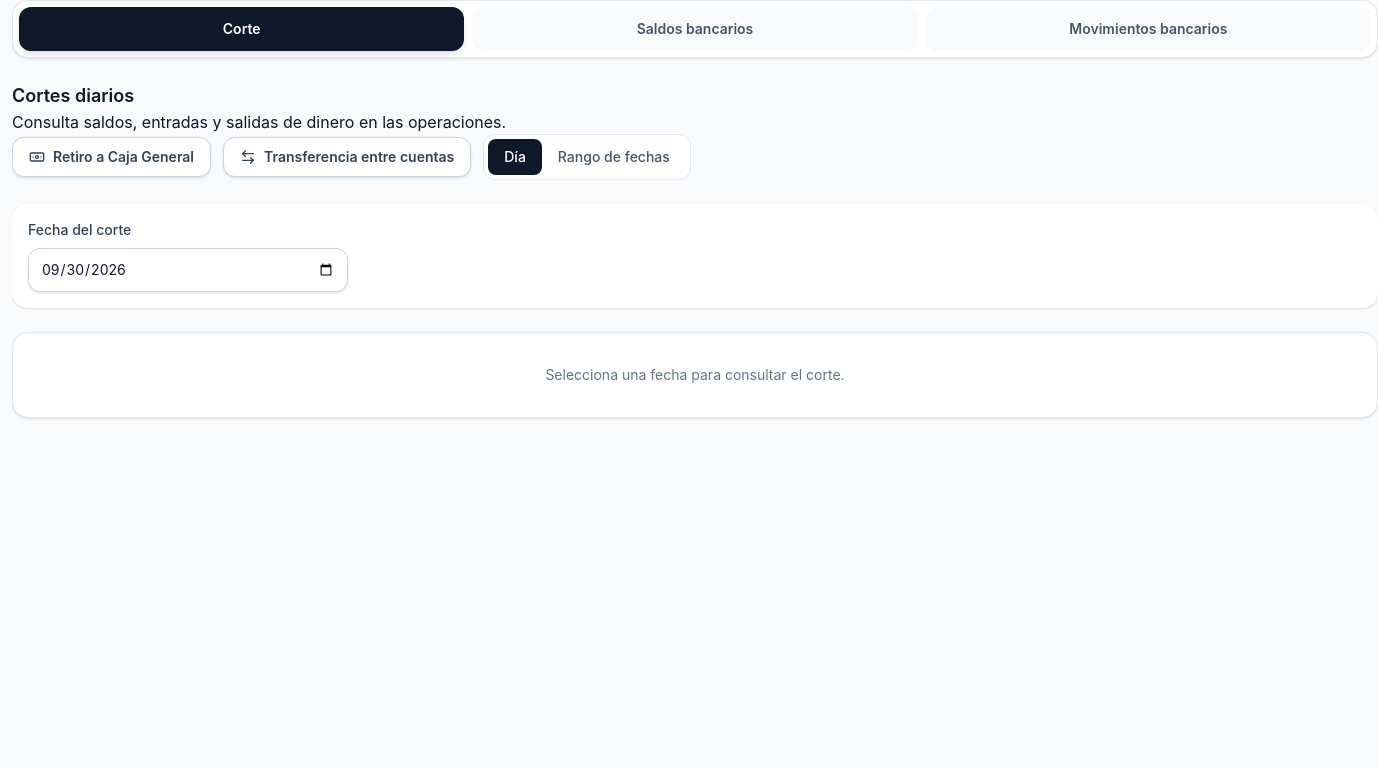
Test: DailyCashCutPage › cambiar de pestaña lleva a su propia ruta
This screenshot has width=1378, height=768.
Click the button "Movimientos bancarios" at point(1148, 29), box [926,7,1371,51]
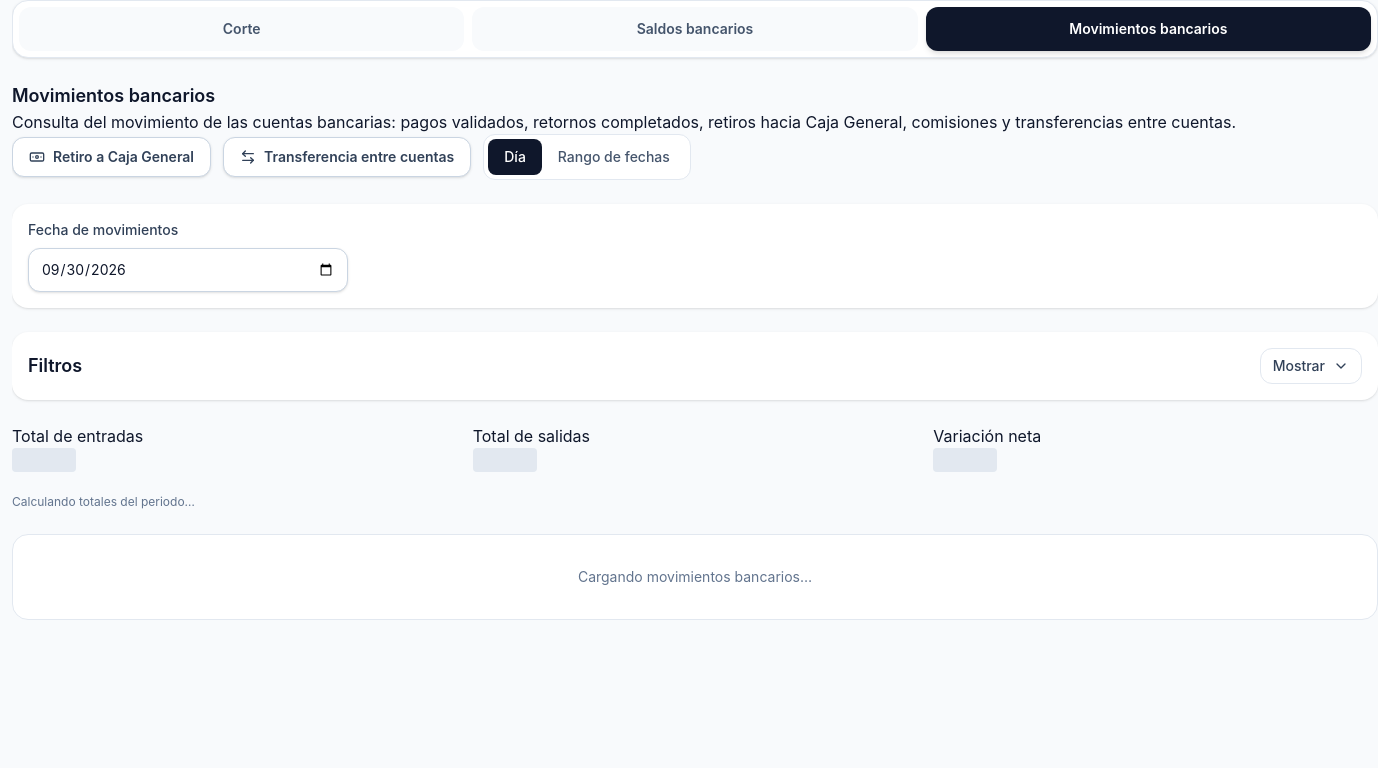
expect the heading "Movimientos bancarios" is shown: met, box [12,85,215,106]
Click the button "Saldos bancarios" at point(695, 29), box [472,7,918,51]
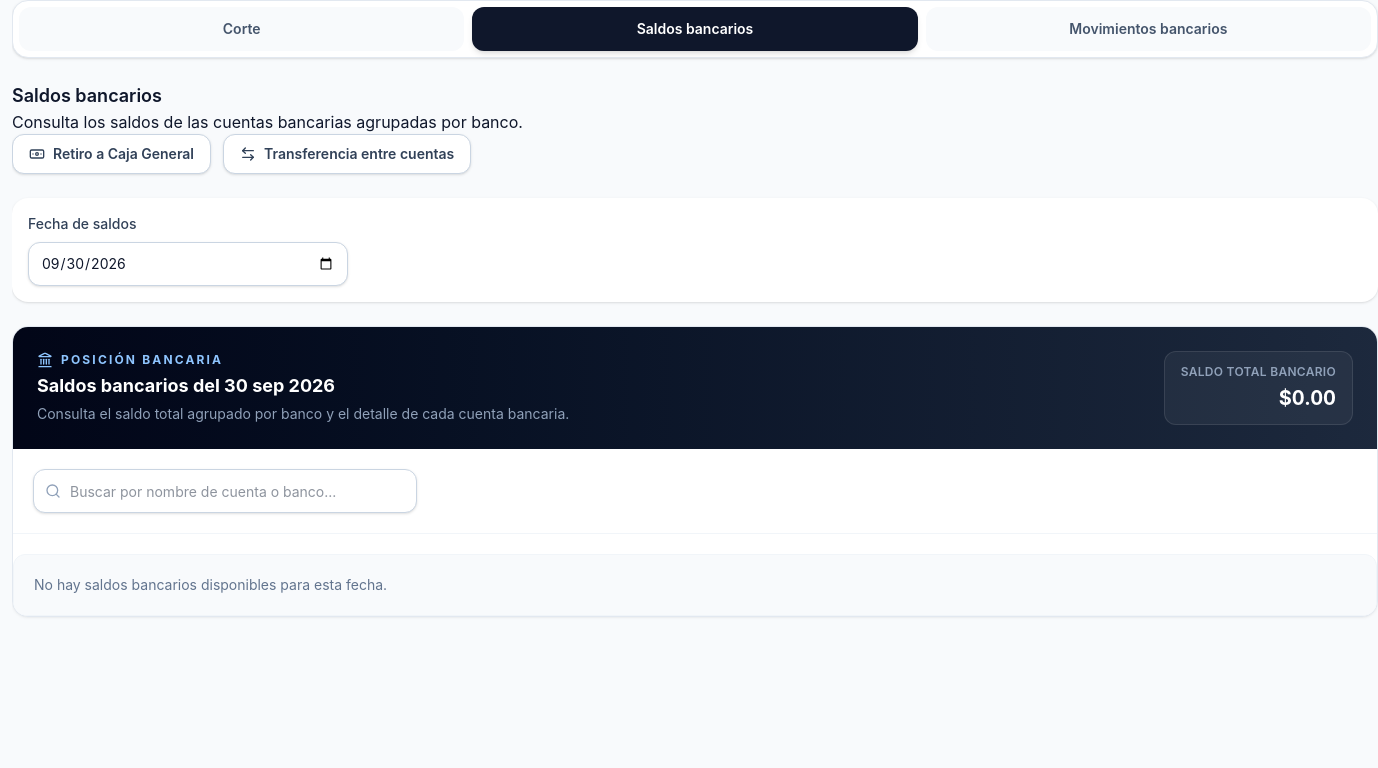
expect the heading "Saldos bancarios" is shown: met, box [12,85,162,106]
